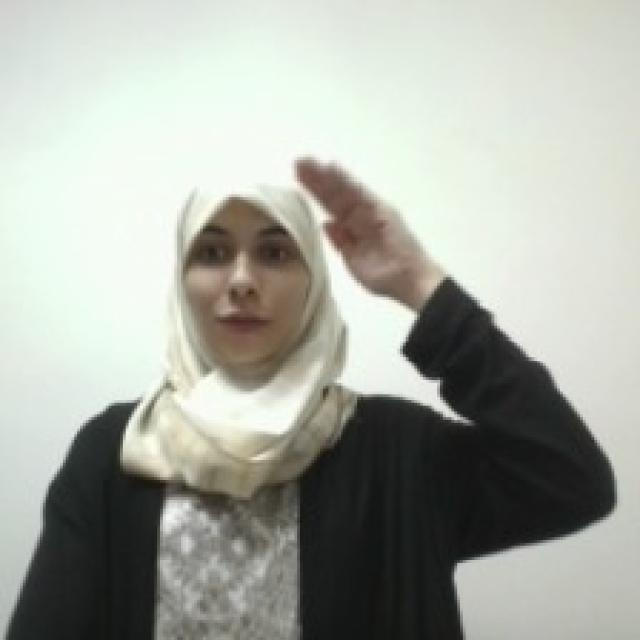Thanks: (290, 152, 419, 299)
